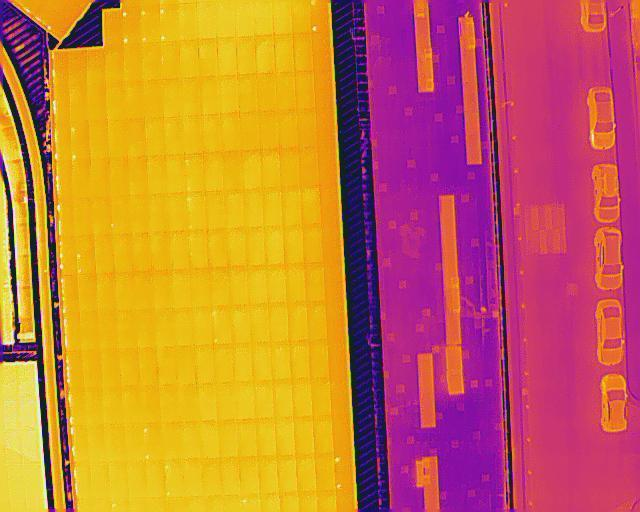Cell: (312, 1, 330, 32)
Cell-Multi: (71, 119, 90, 160), (142, 424, 164, 459), (139, 8, 160, 44), (333, 450, 352, 489), (76, 236, 95, 274), (165, 459, 184, 497), (66, 349, 84, 387), (122, 10, 141, 45), (60, 236, 77, 274), (62, 274, 79, 311), (161, 8, 179, 42)
No-Anomaly: (181, 78, 204, 116), (305, 263, 326, 303), (245, 227, 266, 267), (283, 224, 304, 264), (88, 120, 109, 160), (254, 36, 276, 74), (292, 33, 314, 71), (182, 116, 204, 154), (219, 113, 241, 151), (212, 305, 233, 344), (170, 269, 191, 308), (185, 191, 206, 230), (223, 189, 244, 228), (201, 458, 222, 497), (235, 37, 257, 74), (233, 342, 253, 382), (132, 232, 152, 272), (189, 229, 209, 269), (264, 226, 284, 266), (303, 223, 323, 263), (242, 150, 262, 190), (261, 149, 281, 189), (239, 456, 259, 496), (292, 379, 313, 417), (121, 386, 142, 424), (296, 454, 317, 492), (143, 80, 164, 118), (199, 77, 220, 115), (276, 72, 297, 110), (274, 34, 295, 72), (311, 32, 332, 70), (112, 234, 133, 272), (140, 386, 160, 425), (253, 342, 273, 381), (309, 340, 329, 379), (80, 311, 100, 350), (286, 264, 306, 303), (323, 263, 343, 302), (297, 109, 317, 148), (94, 234, 114, 273), (169, 231, 189, 270), (207, 229, 227, 268), (129, 195, 149, 234), (166, 192, 186, 231), (319, 185, 339, 224), (110, 158, 130, 197), (223, 151, 243, 190), (164, 116, 184, 155), (277, 112, 298, 149), (216, 38, 237, 75), (198, 421, 219, 458), (236, 419, 257, 456), (242, 190, 263, 227), (262, 189, 283, 226), (282, 188, 303, 225), (300, 187, 321, 224), (103, 386, 122, 426), (197, 383, 217, 421), (217, 383, 237, 421), (177, 346, 197, 384), (328, 340, 348, 378), (173, 308, 193, 346), (78, 274, 98, 312), (134, 272, 154, 310), (248, 266, 268, 304), (239, 112, 259, 150), (125, 81, 145, 119), (238, 74, 258, 112), (257, 74, 277, 112), (198, 39, 218, 77), (256, 419, 276, 457), (275, 418, 295, 456), (205, 191, 225, 229), (90, 160, 110, 198), (165, 154, 185, 192), (203, 153, 223, 191), (299, 148, 319, 186), (126, 119, 146, 157), (145, 118, 165, 156), (201, 114, 221, 152), (294, 72, 315, 108), (293, 417, 314, 453), (121, 348, 140, 387), (158, 347, 177, 386), (215, 344, 234, 383), (100, 311, 119, 350), (250, 303, 269, 342), (269, 303, 288, 342), (230, 266, 249, 305), (74, 197, 93, 236), (147, 155, 166, 194), (280, 148, 299, 187), (178, 385, 198, 422), (255, 381, 275, 418), (135, 310, 155, 347), (192, 308, 212, 345), (288, 304, 308, 341), (210, 268, 230, 305), (259, 112, 279, 149), (315, 453, 335, 490), (106, 82, 126, 119), (87, 424, 107, 461), (179, 422, 199, 459), (311, 378, 331, 415), (258, 456, 278, 493), (218, 77, 239, 112), (236, 382, 255, 420), (274, 379, 293, 417), (140, 347, 159, 385), (196, 345, 215, 383), (272, 342, 291, 380), (290, 341, 309, 379), (117, 310, 136, 348), (155, 309, 174, 347), (307, 303, 326, 341), (97, 272, 116, 310), (116, 272, 135, 310), (191, 269, 210, 307), (162, 422, 181, 460), (227, 228, 246, 266), (111, 197, 130, 235), (92, 197, 111, 235), (149, 194, 168, 232), (109, 461, 128, 499), (128, 157, 147, 195), (185, 154, 204, 192), (108, 120, 127, 158), (83, 350, 103, 386), (317, 108, 335, 148), (163, 80, 183, 116), (313, 416, 333, 452), (151, 231, 169, 271), (221, 458, 239, 498), (102, 349, 121, 386), (313, 71, 332, 108), (124, 45, 143, 82), (161, 42, 180, 79), (180, 41, 199, 78), (104, 11, 123, 48), (219, 420, 238, 457), (128, 462, 147, 499), (146, 461, 165, 498), (72, 161, 91, 198), (318, 148, 337, 185), (278, 455, 297, 492), (322, 224, 340, 263), (87, 84, 107, 119), (104, 48, 124, 83), (124, 426, 144, 461), (330, 379, 349, 415), (327, 302, 345, 340), (269, 265, 287, 303), (142, 44, 161, 80), (331, 415, 350, 451), (85, 386, 103, 424), (91, 462, 109, 500), (161, 386, 179, 423), (232, 305, 250, 342), (154, 271, 172, 308), (184, 459, 202, 496), (86, 50, 105, 85), (106, 425, 125, 460), (69, 51, 87, 86), (56, 161, 73, 198), (179, 7, 198, 40), (69, 85, 87, 119), (273, 4, 293, 34), (217, 7, 236, 38), (236, 6, 255, 37), (255, 5, 274, 36), (198, 8, 217, 38), (292, 3, 311, 33)
Unclassified: (54, 119, 71, 161), (71, 424, 90, 461), (57, 197, 75, 236), (69, 386, 87, 424), (74, 461, 91, 499), (52, 50, 69, 86), (65, 312, 81, 350), (53, 87, 71, 120)
